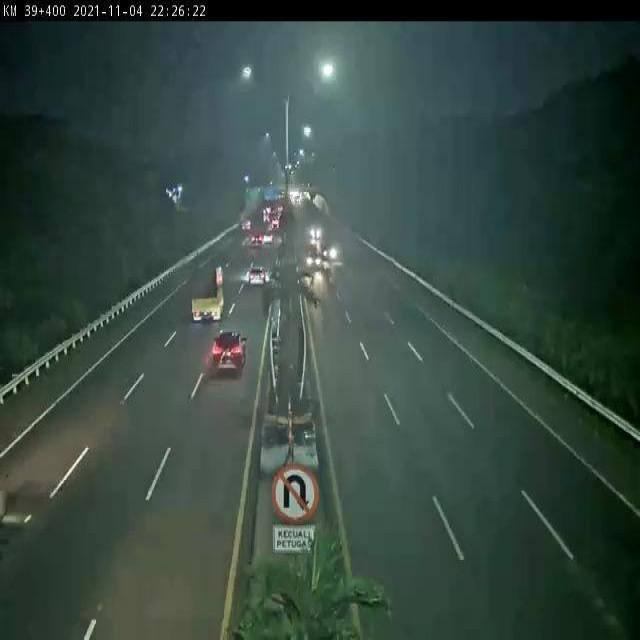car: (212, 329, 248, 376), (249, 264, 267, 284), (321, 244, 337, 260), (306, 251, 321, 268), (309, 224, 322, 239), (261, 231, 273, 244), (251, 234, 263, 246)
truck: (190, 265, 225, 320)
